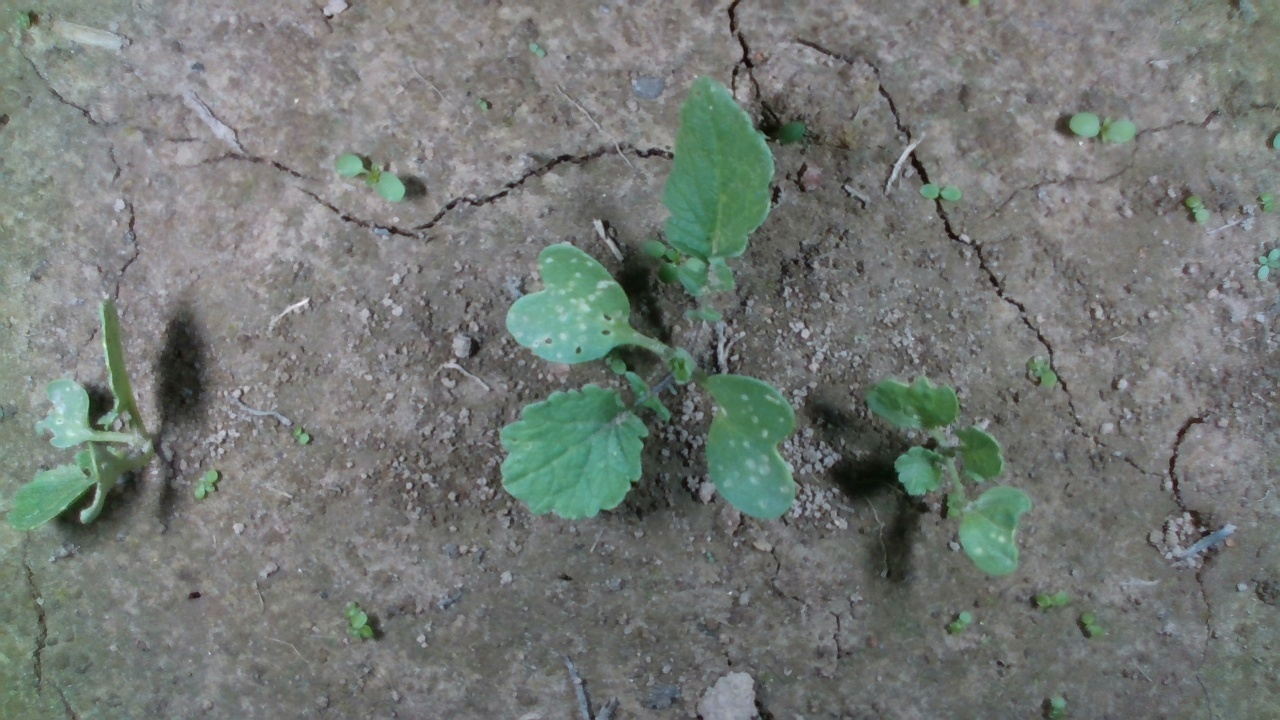weed: (334, 153, 407, 204), (1066, 109, 1137, 145), (1027, 355, 1059, 389), (918, 182, 963, 202), (1183, 193, 1212, 224), (193, 468, 219, 500), (1032, 588, 1068, 609), (1079, 610, 1103, 639), (947, 610, 973, 634), (290, 425, 310, 446), (526, 39, 546, 59), (1258, 192, 1275, 213)
